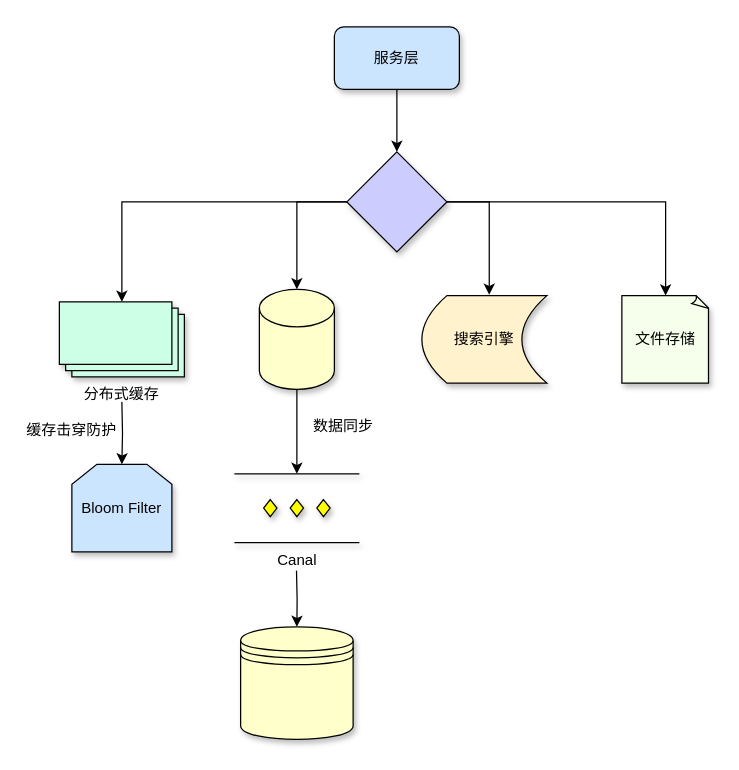
Image size: 739x770. Some labels were removed from this diagram. Each missing label, with the centre of its shape:
"关系 数据库" goes at point (297, 340).
"数据仓库" goes at point (297, 684).
"数据路由" goes at point (397, 203).
